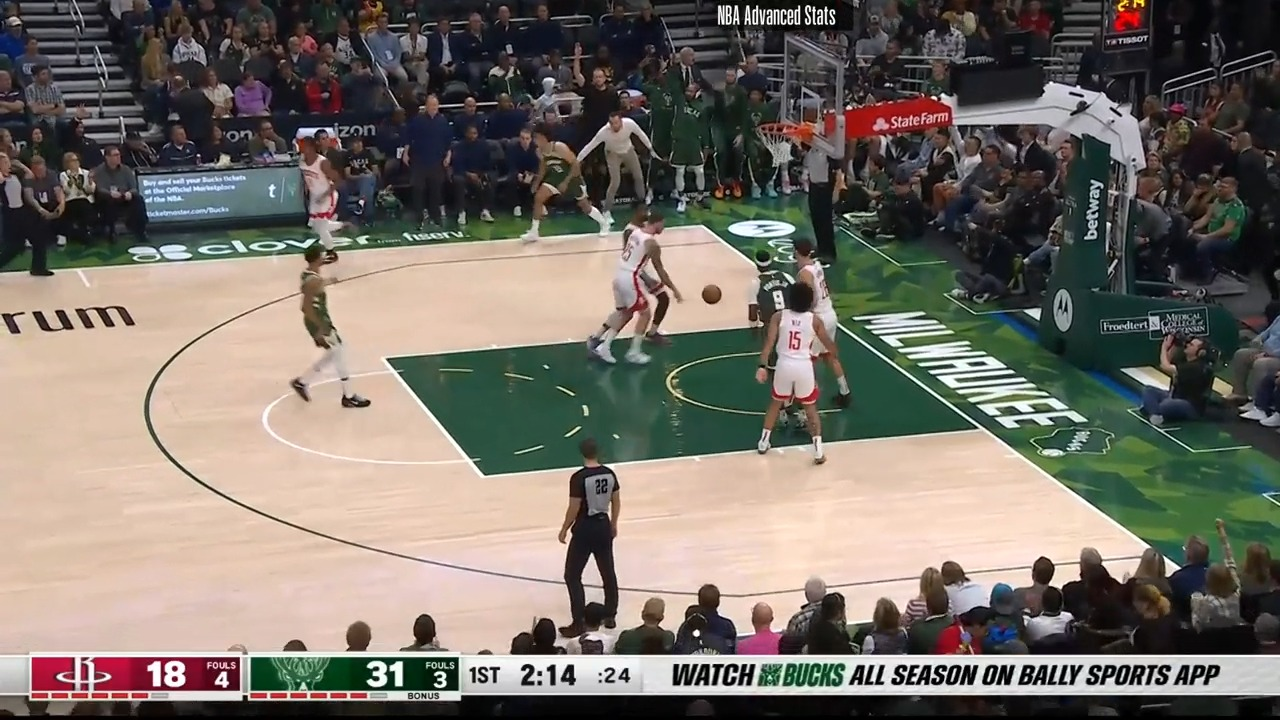net: (756, 115, 819, 168)
player: (762, 284, 850, 471), (292, 244, 388, 414), (587, 201, 675, 363), (519, 124, 605, 246), (289, 134, 347, 268), (755, 234, 839, 316), (750, 246, 800, 359)
referee: (555, 438, 627, 633), (0, 151, 58, 283), (803, 123, 848, 260)
